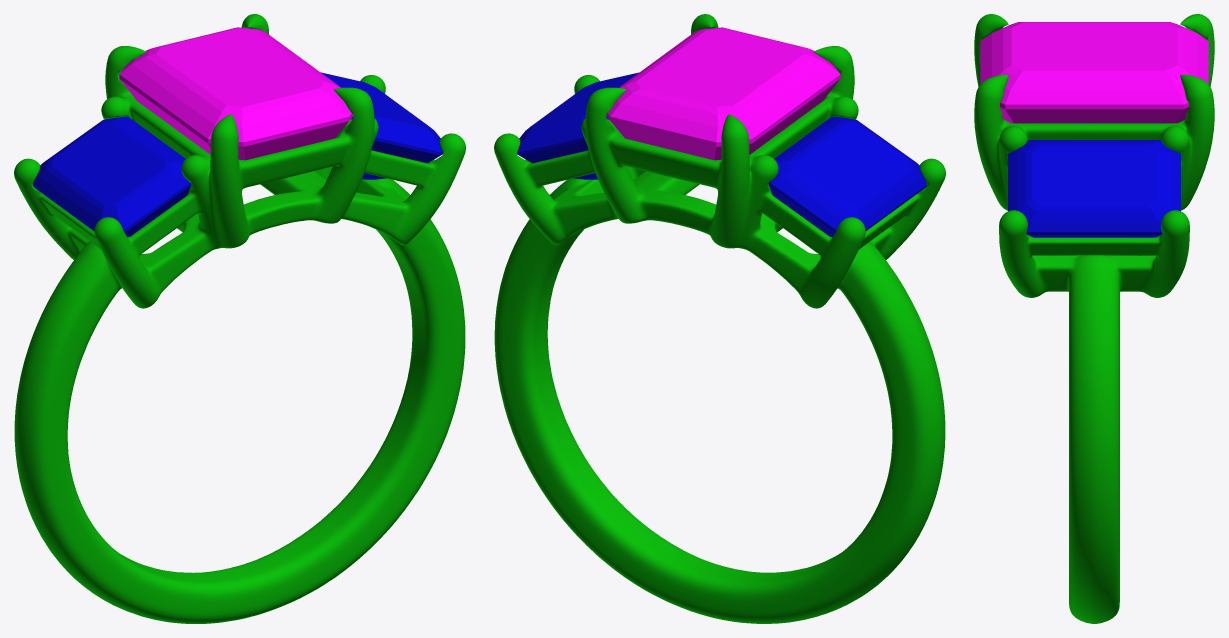
File: BE1D1499_EM_200ct_RENDER.glb
The picture shows the model from 3 angles, left to right: view 1: azimuth 30°, elevation 25°; view 2: azimuth 150°, elevation 25°; view 3: azimuth 270°, elevation 25°; orthographic projection.
Visible parts, largest first — view 1: Metal 01, CS_Diamond_Emerald, Diamond_Emerald_side.001, Diamond_Emerald_side; view 2: Metal 01, CS_Diamond_Emerald, Diamond_Emerald_side.001, Diamond_Emerald_side; view 3: Metal 01, CS_Diamond_Emerald, Diamond_Emerald_side.
Part boxes in pixels (bbox=[...]): Metal 01: bbox=[14, 14, 465, 623]; CS_Diamond_Emerald: bbox=[119, 27, 353, 160]; Diamond_Emerald_side.001: bbox=[33, 116, 191, 236]; Diamond_Emerald_side: bbox=[321, 72, 442, 179]; Metal 01: bbox=[494, 14, 945, 623]; CS_Diamond_Emerald: bbox=[606, 27, 840, 160]; Diamond_Emerald_side.001: bbox=[768, 116, 926, 236]; Diamond_Emerald_side: bbox=[517, 72, 638, 179]; Metal 01: bbox=[974, 14, 1214, 623]; CS_Diamond_Emerald: bbox=[980, 22, 1208, 123]; Diamond_Emerald_side: bbox=[1008, 140, 1180, 237].
Size of the model in its own units: 20.3 by 24.03 by 9.47.
